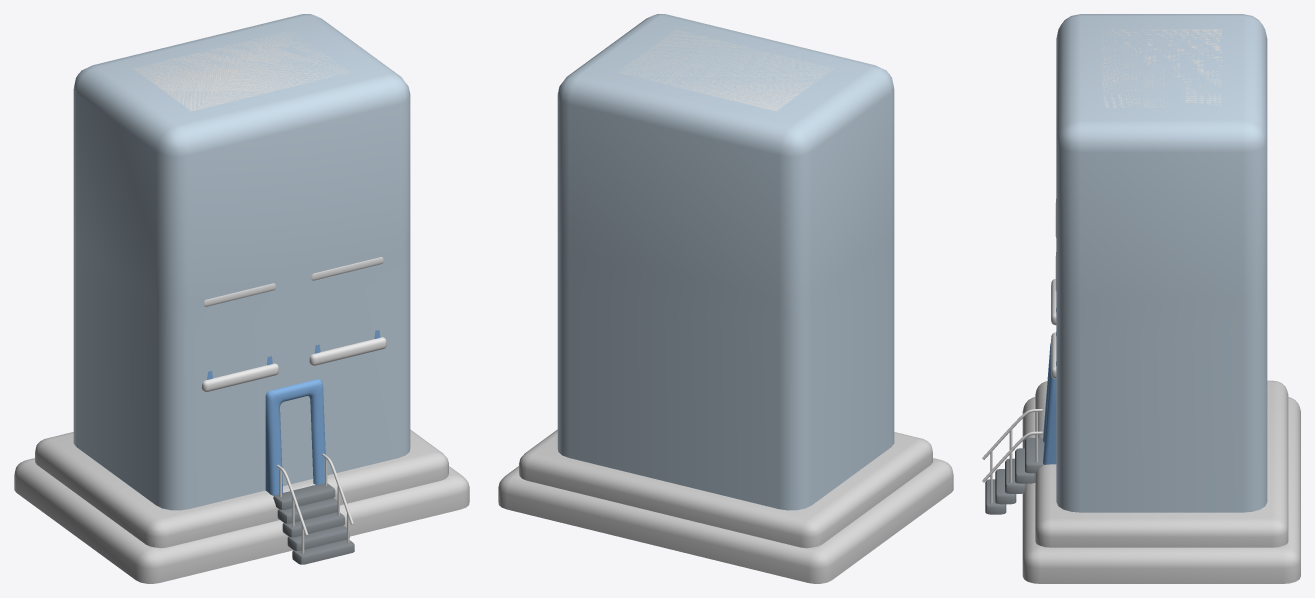
File: predio_cartoon2.fbx
3 renders of one model, left to right at view 1: azimuth 30°, elevation 25°; view 2: azimuth 150°, elevation 25°; view 3: azimuth 270°, elevation 25°, orthographic.
Parts seen in each view (by area): view 1: Cube, Cube.001, Cube.006, Cube.004, Cube.003, Cube.005; view 2: Cube, Cube.001, Cube.006; view 3: Cube, Cube.001, Cube.006, Cube.004, Cube.003, Cube.005, NurbsPath.
Part boxes in pixels (bbox=[...]): Cube: bbox=[73, 14, 410, 510]; Cube.001: bbox=[14, 429, 469, 583]; Cube.006: bbox=[134, 30, 348, 111]; Cube.004: bbox=[273, 483, 354, 564]; Cube.003: bbox=[265, 379, 325, 495]; Cube.005: bbox=[202, 257, 386, 391]; Cube: bbox=[557, 14, 894, 510]; Cube.001: bbox=[498, 429, 953, 583]; Cube.006: bbox=[618, 30, 834, 111]; Cube: bbox=[1056, 14, 1267, 512]; Cube.001: bbox=[1022, 380, 1300, 583]; Cube.006: bbox=[1102, 29, 1221, 107]; Cube.004: bbox=[985, 438, 1044, 514]; Cube.003: bbox=[1043, 343, 1056, 464]; Cube.005: bbox=[1051, 199, 1056, 378]; NurbsPath: bbox=[982, 409, 1042, 482].
Bounding box in the file's own units: 370 × 454 × 303.
